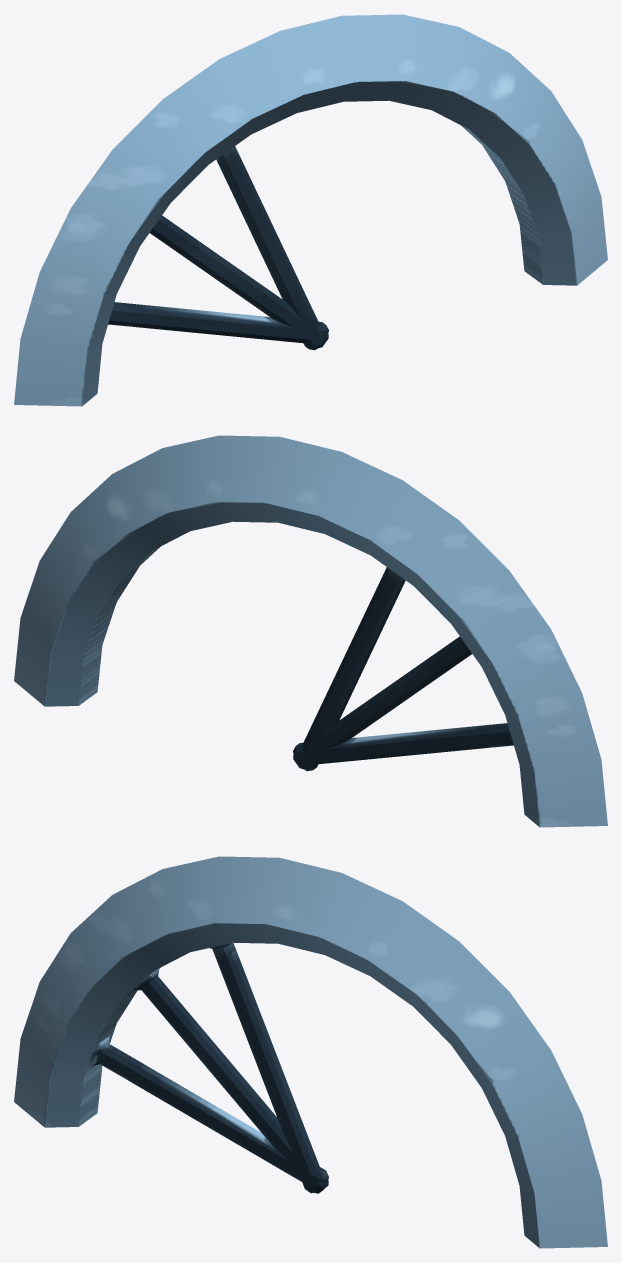
File: Pharkas_Build02.fbx
3 renders of one model, top to bottom at view 1: azimuth 30°, elevation 25°; view 2: azimuth 150°, elevation 25°; view 3: azimuth 330°, elevation 25°, orthographic.
Visible parts, largest first — view 1: pTorus1; view 2: pTorus1; view 3: pTorus1.
Boxes of the visible parts, left/top/right/bottom form: pTorus1: left=14, top=14, right=607, bottom=406; pTorus1: left=14, top=435, right=607, bottom=827; pTorus1: left=14, top=856, right=607, bottom=1248.
Bounding box in the file's own units: 1556 × 816 × 169.
Materials: 1 (1 with a texture image).
